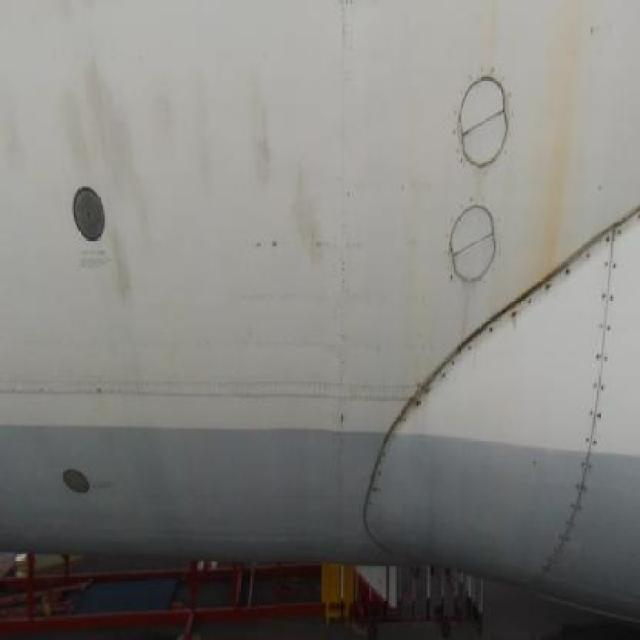Missing-Rivet: (572, 210, 640, 542), (350, 345, 456, 544), (427, 268, 578, 341)
Rust: (531, 6, 587, 285)
